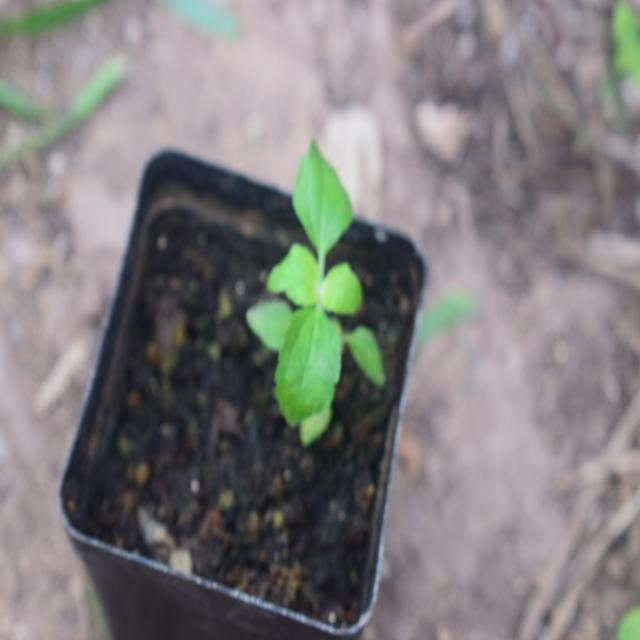billygoat_weed: (259, 148, 396, 453)
